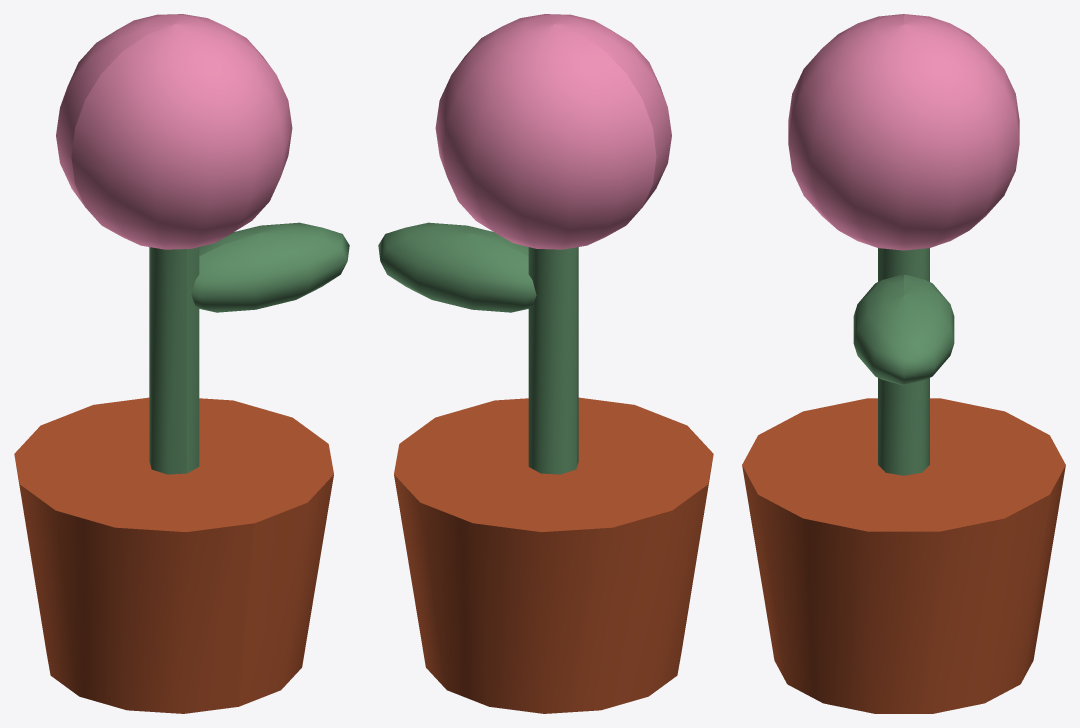
The model's file is held-item.glb.
3 renders of one model, left to right at view 1: azimuth 30°, elevation 25°; view 2: azimuth 150°, elevation 25°; view 3: azimuth 270°, elevation 25°, orthographic.
Visible parts, largest first — view 1: flower; view 2: flower; view 3: flower.
Part boxes in pixels (box(x1,y1,x2,y2)): flower: box(14, 14, 349, 713); flower: box(378, 14, 713, 713); flower: box(742, 14, 1065, 713).
Bounding box in the file's own units: 0.1671 × 0.325 × 0.15.
